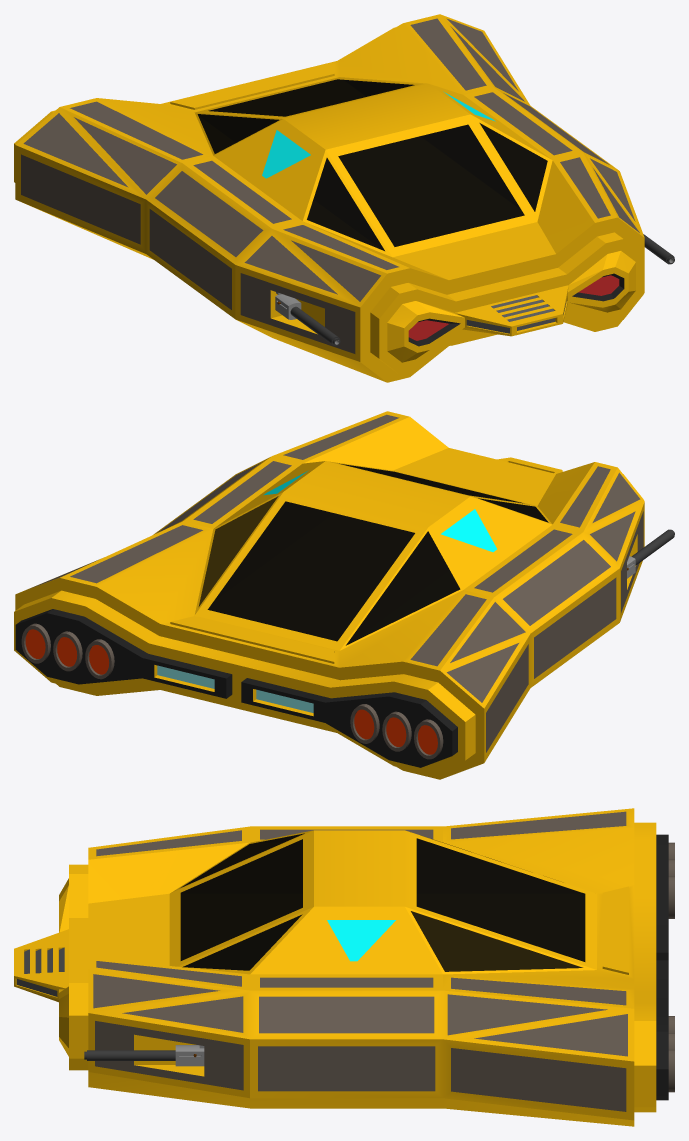
3 renders of one model, top to bottom at view 1: azimuth 30°, elevation 25°; view 2: azimuth 150°, elevation 25°; view 3: azimuth 270°, elevation 25°, orthographic. The views are drawn at different scales.
Visible parts, largest first — view 1: group_0 (×30); view 2: group_0 (×27); view 3: group_0 (×30).
Boxes of the visible parts, x1,y1,x2,y2 form: group_0 (×30): (15,14,644,382); group_0 (×27): (14,411,644,779); group_0 (×30): (14,808,668,1126).
Size of the model in its own units: 653 by 738 by 195.
